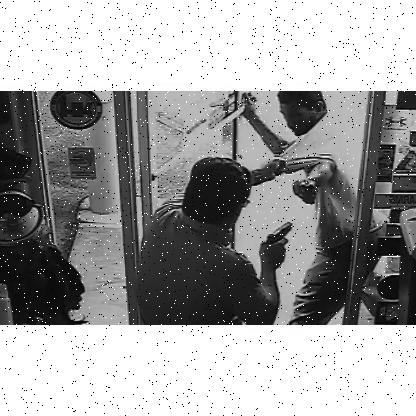gun: (260, 221, 292, 268)
